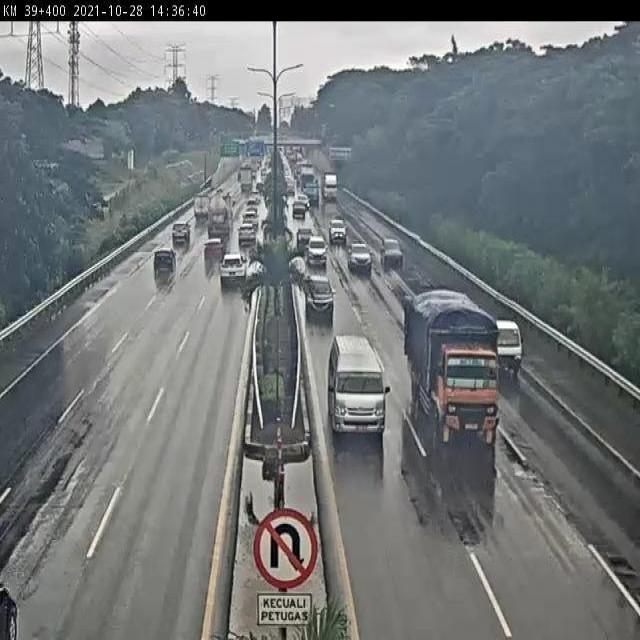bus-s-: (328, 338, 389, 438)
car: (493, 317, 525, 375)
truck-m-: (402, 289, 504, 448)
truck-xl-: (205, 191, 232, 244)
